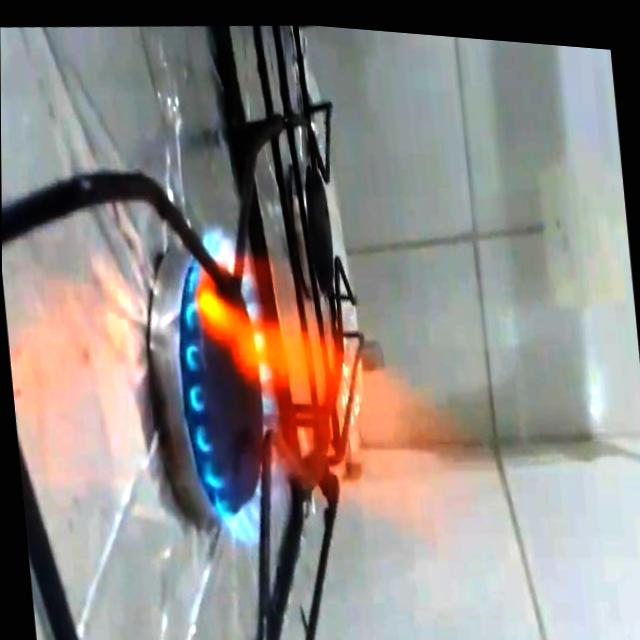helmet: (163, 193, 503, 572)
